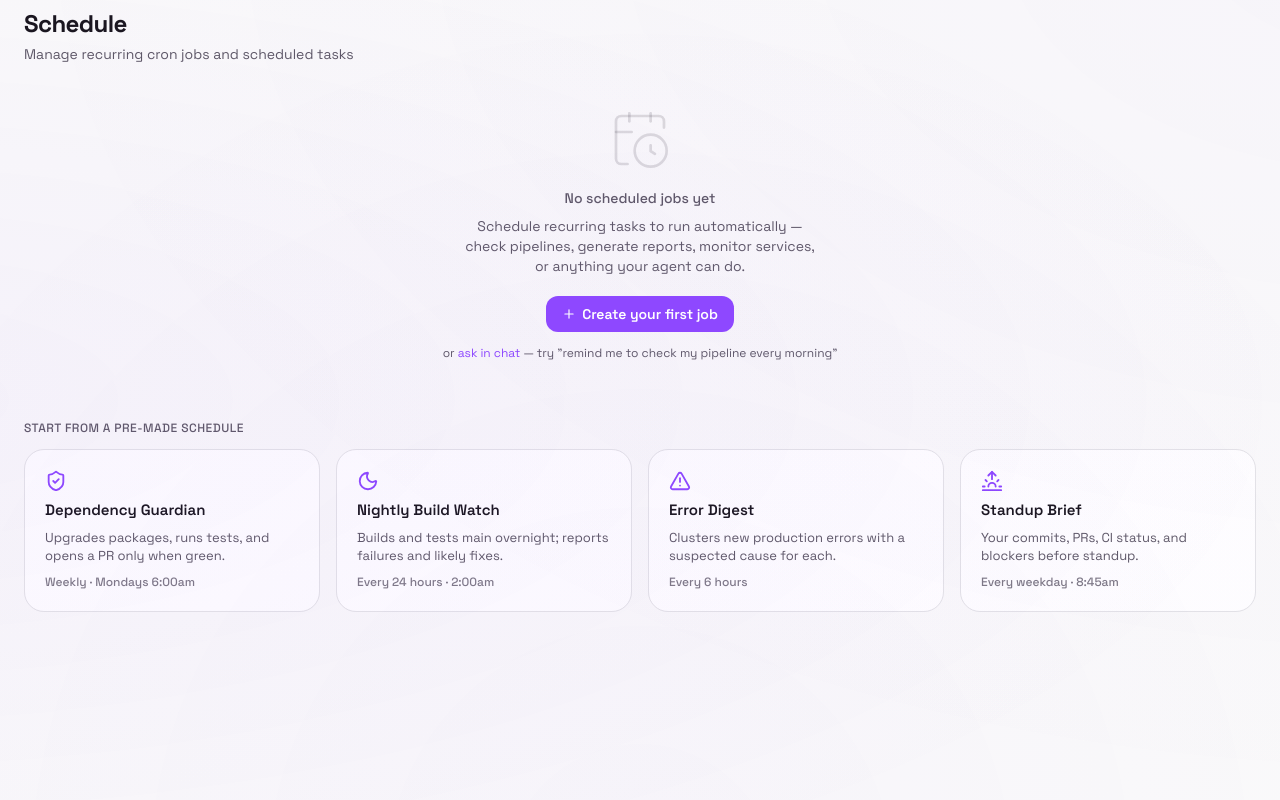
Scenario: SchedulePage empty-state preset cards › clicking a preset card opens the create panel with the prompt + name prefilled
What coordinates should you click on to do the following:
click the text "Error Digest"
I would click on:
 (712, 510)
Its box is [669,500,754,521].
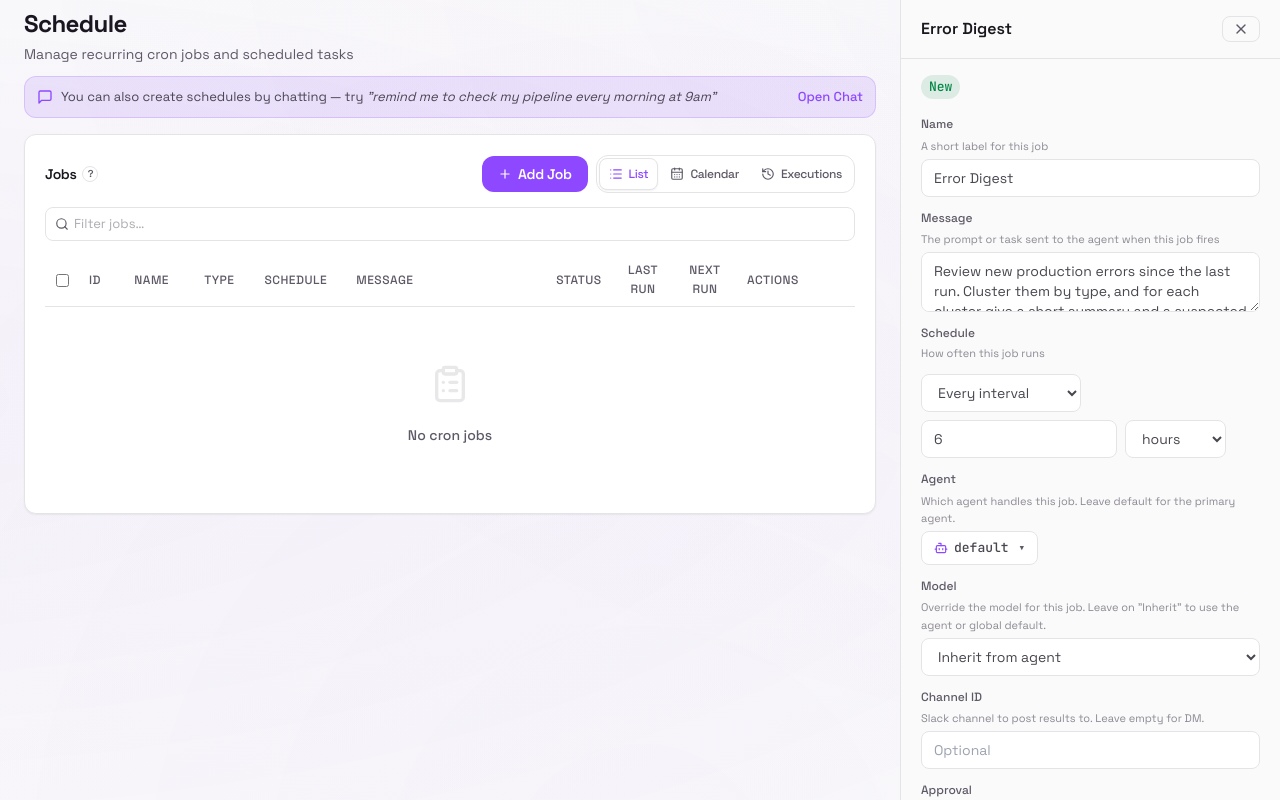
Result: the field named "Name" holds "Error Digest" at [921,159,1260,197]
